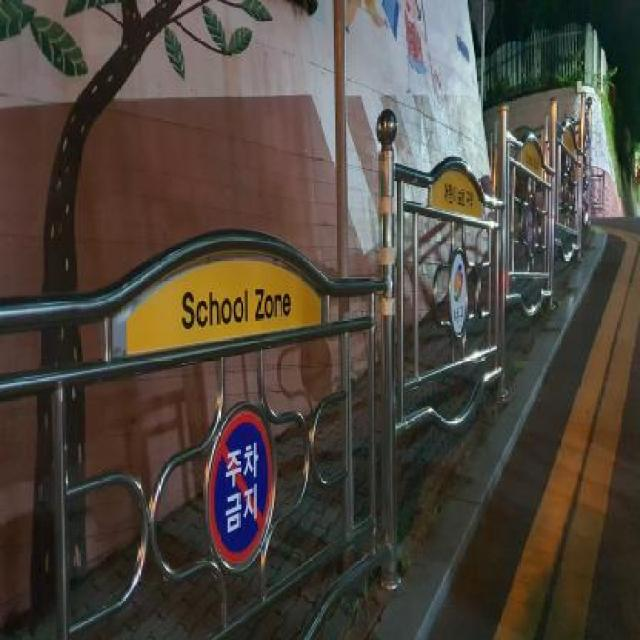fence: (0, 184, 422, 639), (358, 76, 546, 460), (481, 62, 640, 334)
